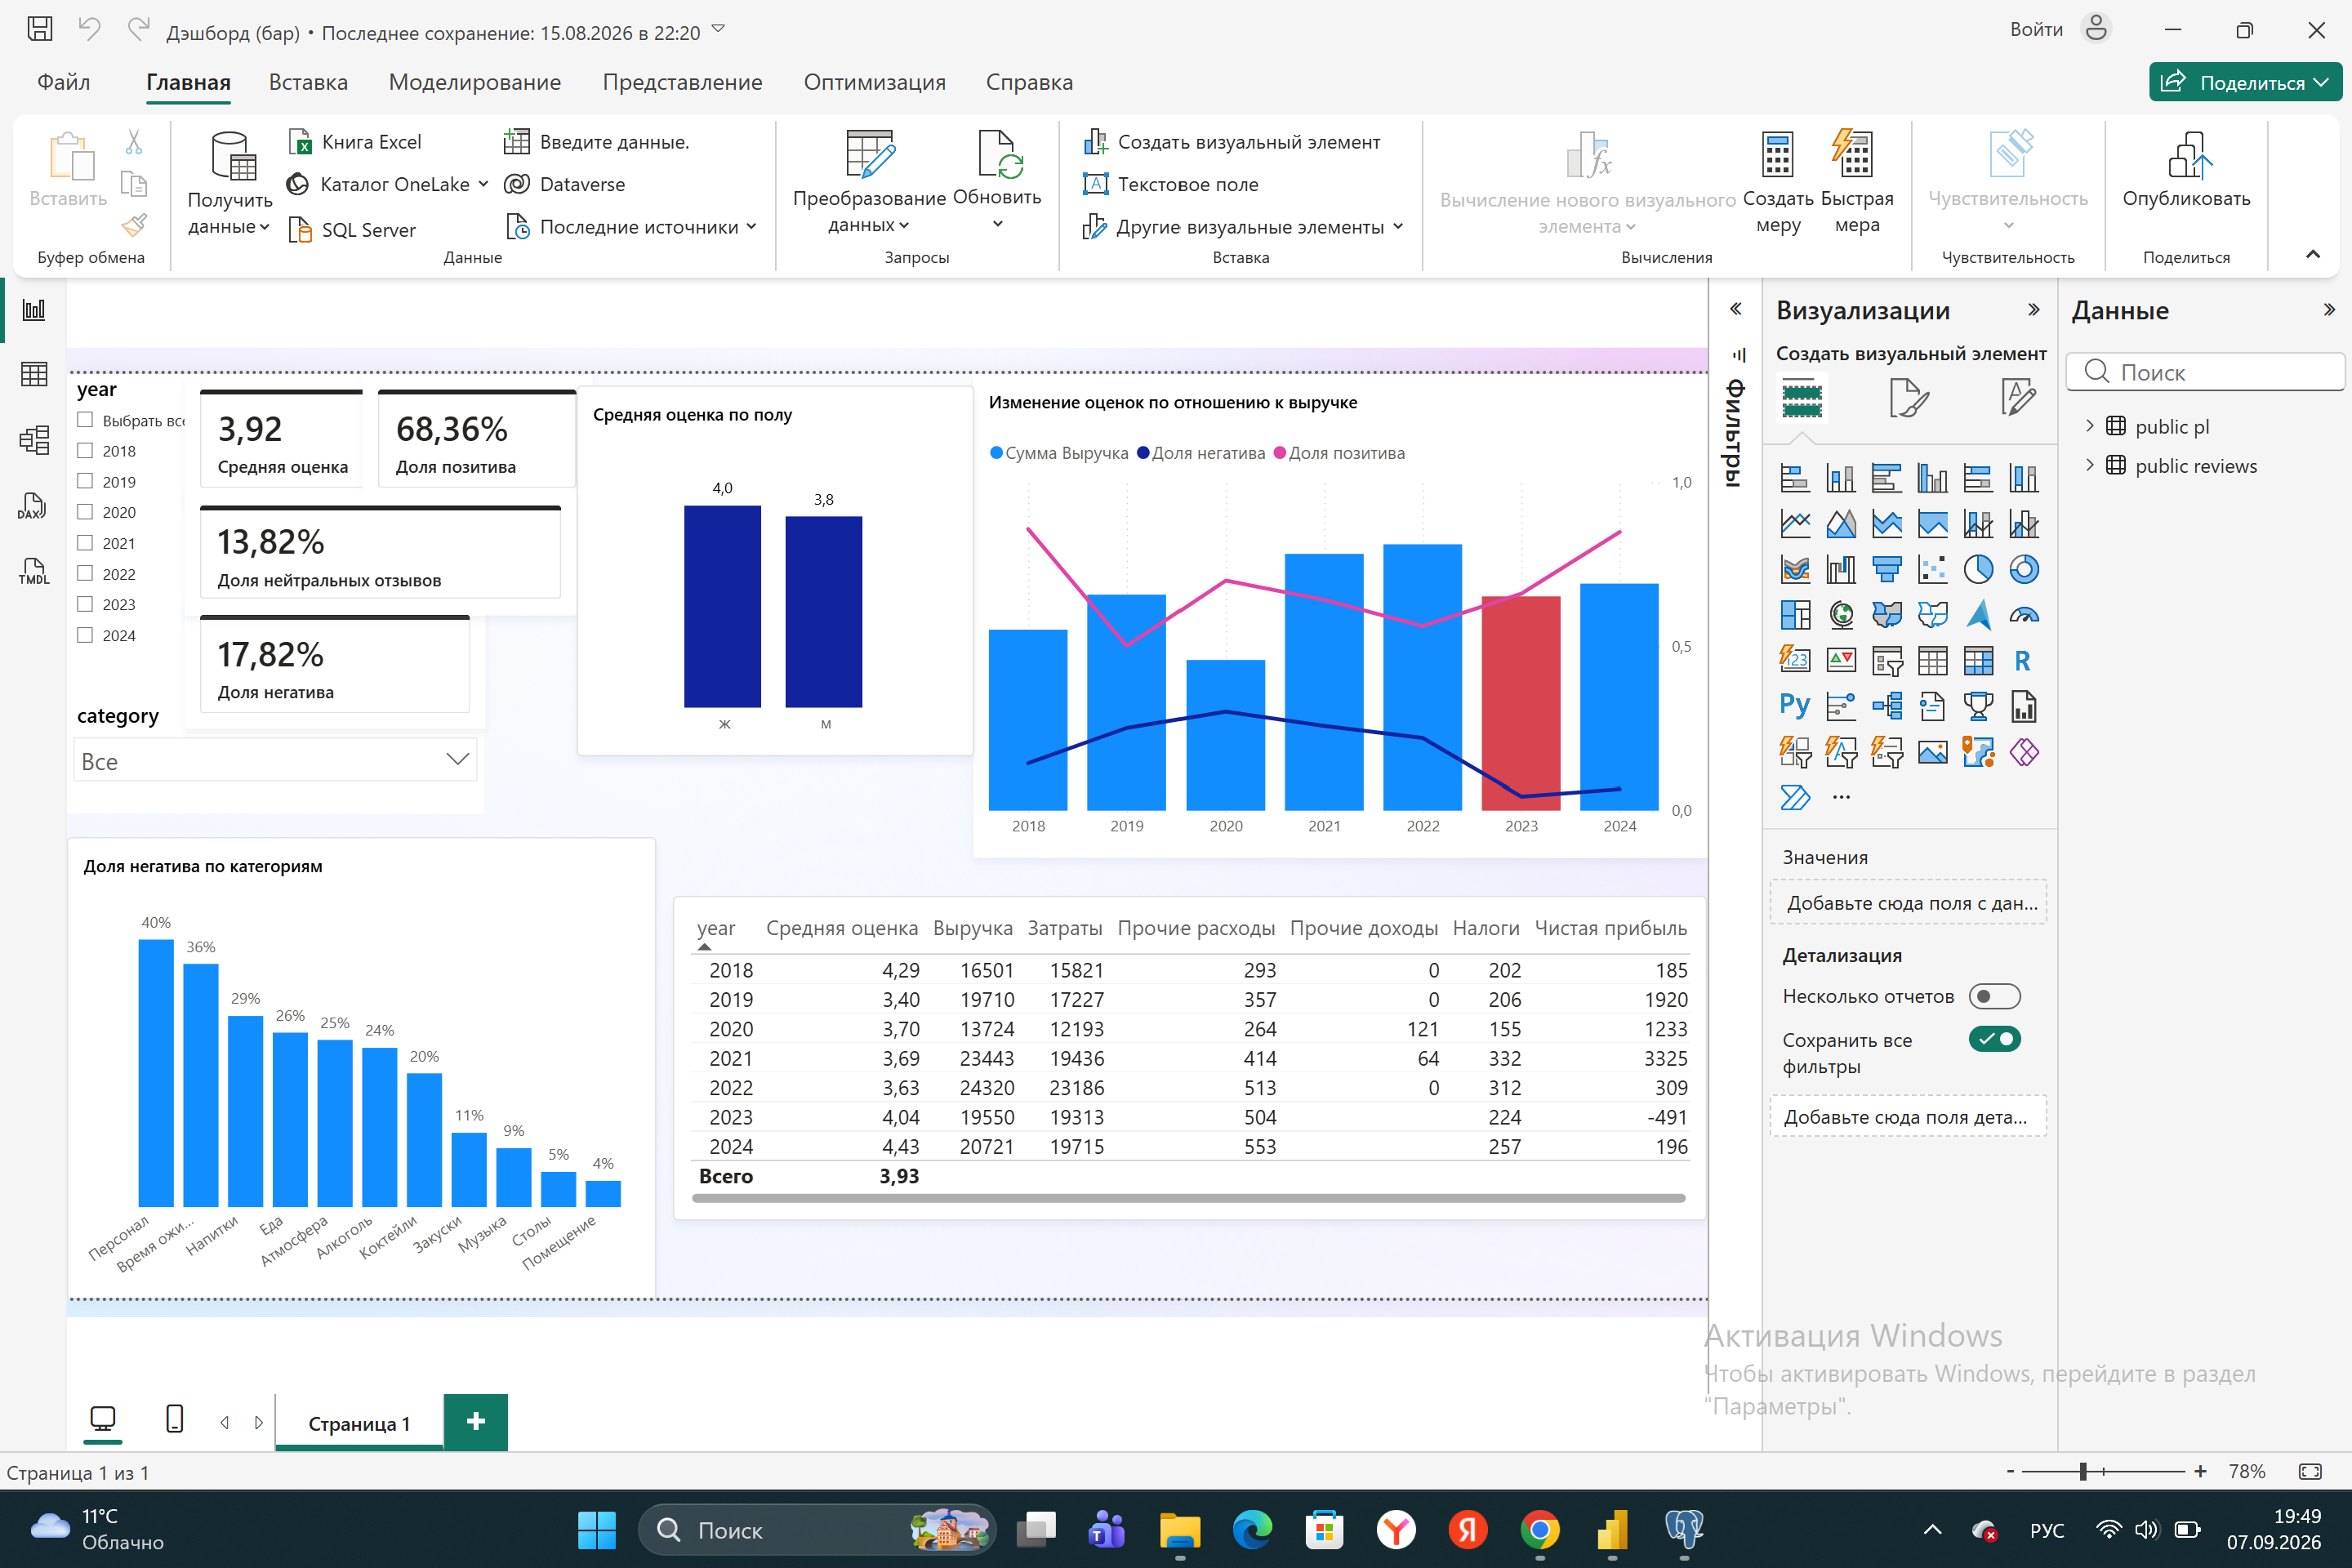

This screenshot's page, from the dashboard's own definition file:
{"tool":"powerbi","page":{"name":"Страница 1","canvas":[1280,720],"ordinal":0},"visuals":[{"type":"slicer","fields":{"Values":["public pl.year"]},"box":[0,0,102.5,256.3],"z":0},{"type":"cardVisual","fields":{"Data":["public pl.AVG_rate"]},"box":[92,0,170.4,101],"z":1000},{"type":"slicer","fields":{"Values":["public reviews.category"]},"box":[0,254.8,325.7,87.4],"z":2000},{"type":"cardVisual","fields":{"Data":["public pl.Bad_rate"]},"box":[92,176.4,235.2,101],"z":3000},{"type":"cardVisual","fields":{"Data":["public pl.Good_rate"]},"box":[230.7,0,179.4,101],"z":4000},{"type":"lineStackedColumnComboChart","title":"Изменение оценок по отношению к выручке","fields":{"Category":["public pl.year"],"Y":["Sum(public pl.revenue)"],"Y2":["public pl.Bad_rate","public pl.Good_rate"]},"box":[707.5,0,572.5,377],"z":5000},{"type":"clusteredColumnChart","title":"Средняя оценка по полу","fields":{"Category":["public reviews.gender"],"Y":["public pl.AVG_rate"]},"box":[398,9,310.6,289.5],"z":6000},{"type":"cardVisual","fields":{"Data":["public pl.Neutral_rate"]},"box":[92,90.5,306.1,98],"z":7000},{"type":"columnChart","title":"Доля негатива по категориям","fields":{"Category":["public reviews.category"],"Y":["public pl.Bad_rate"]},"box":[0,360.3,459.8,361.8],"z":8000},{"type":"tableEx","fields":{"Values":["public pl.year","public pl.Средняя оценка","public pl.revenue","public pl.operation_expense","public pl.other_expenses","public pl.other_income","public pl.income_tax","public pl.net_profit"]},"box":[473.3,406.7,806.7,253.3],"z":9000}]}

Visuals, with their boxes on the page's 1280x720 design canvas (x1, y1, x2, y2). These are canvas units, not pixel positions in the 2352x1568 screenshot, which may show the page scaled, cropped or inside an application window:
slicer - public pl.year: 0 0 102 256
cardVisual - public pl.AVG_rate: 92 0 262 101
slicer - public reviews.category: 0 255 326 342
cardVisual - public pl.Bad_rate: 92 176 327 277
cardVisual - public pl.Good_rate: 231 0 410 101
"Изменение оценок по отношению к выручке" lineStackedColumnComboChart: 708 0 1280 377
"Средняя оценка по полу" clusteredColumnChart: 398 9 709 298
cardVisual - public pl.Neutral_rate: 92 90 398 188
"Доля негатива по категориям" columnChart: 0 360 460 722
tableEx - public pl.year x public pl.Средняя оценка: 473 407 1280 660
